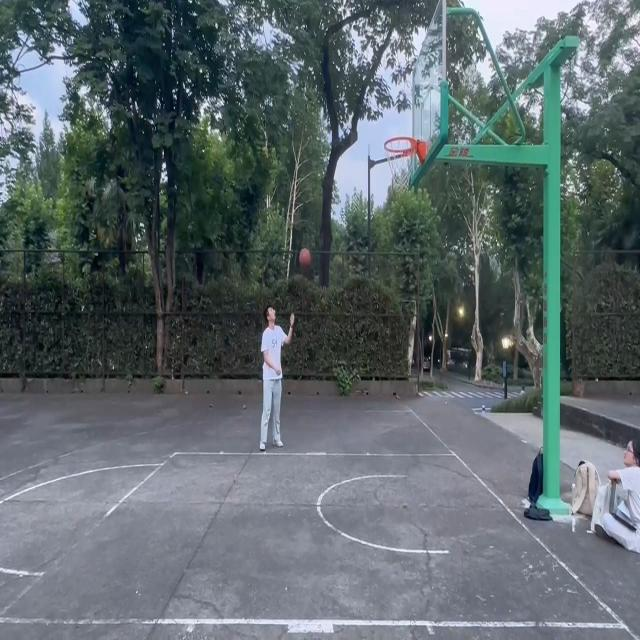basketball: (383, 137, 430, 193)
rim: (299, 246, 312, 268)
